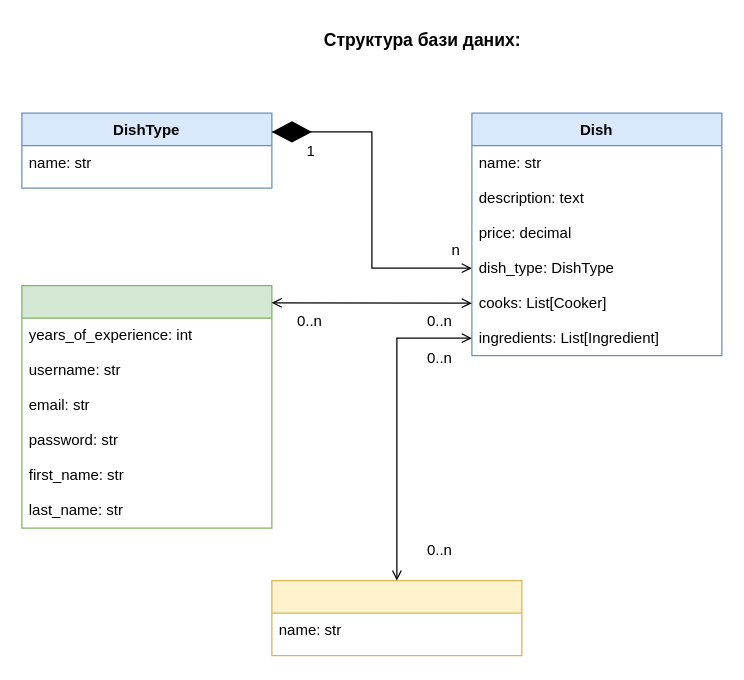
The diagram is 744 pixels wide and 680 high, and some of its shapes have lost their labels. Here are the shapes that lost their labels. From the top down, the box of each, then its label:
(21, 284, 272, 528): Cook(AbstractUser)
(271, 579, 522, 656): Ingredient
